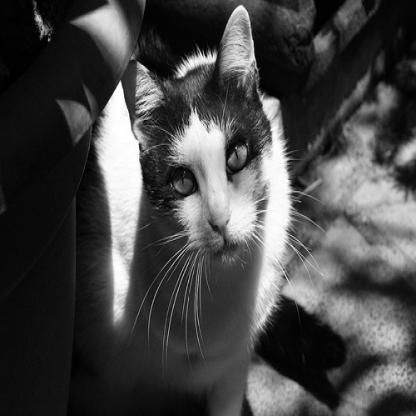cat: (75, 3, 292, 414)
